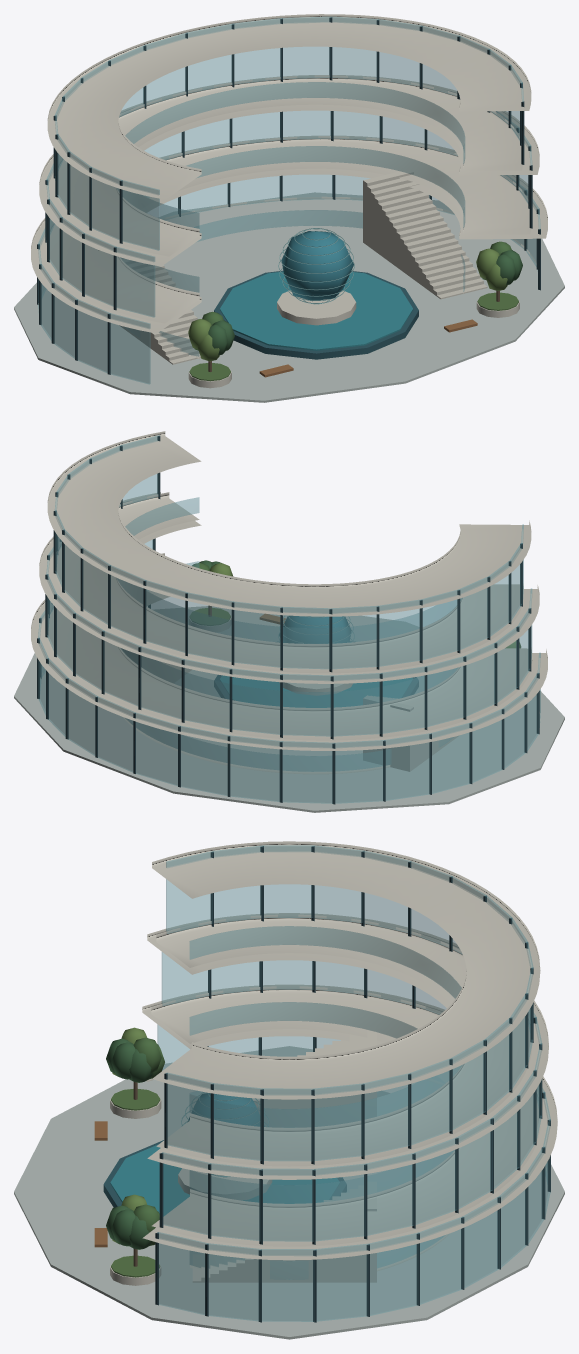
File: discovery-center-far.glb
3 views of the same model, one above another, from view 1: azimuth 30°, elevation 25°; view 2: azimuth 150°, elevation 25°; view 3: azimuth 270°, elevation 25° (orthographic). The views are drawn at different scales.
Bounding box in the file's own units: 30 × 11 × 24.
